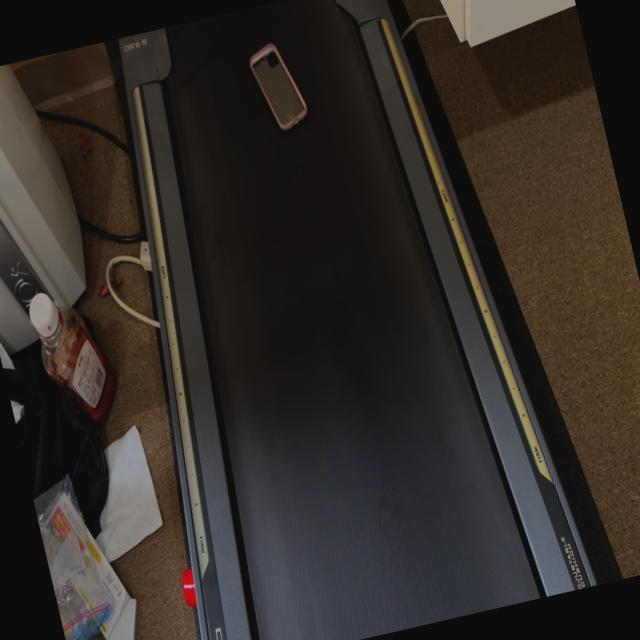Trash: (245, 36, 313, 139)
